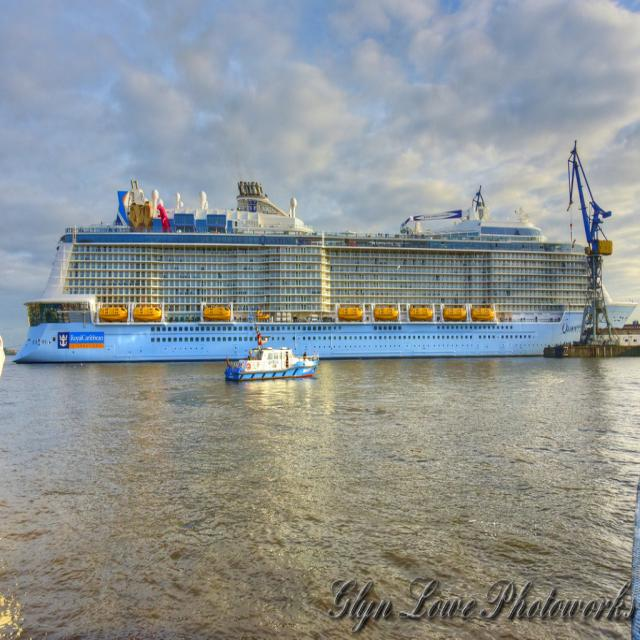Boat: (12, 154, 626, 367), (225, 326, 319, 389)
